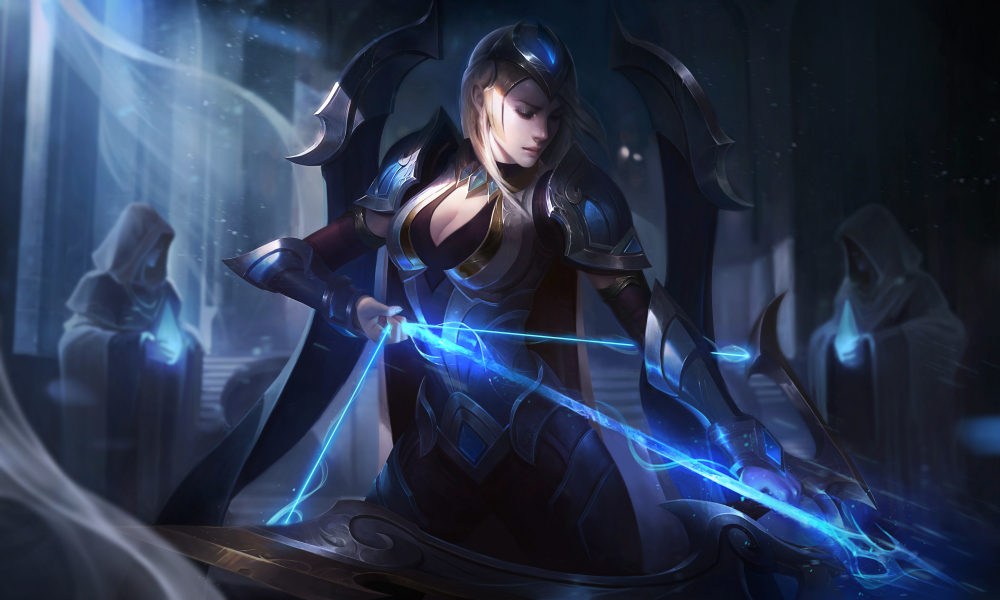face: (451, 17, 607, 204)
